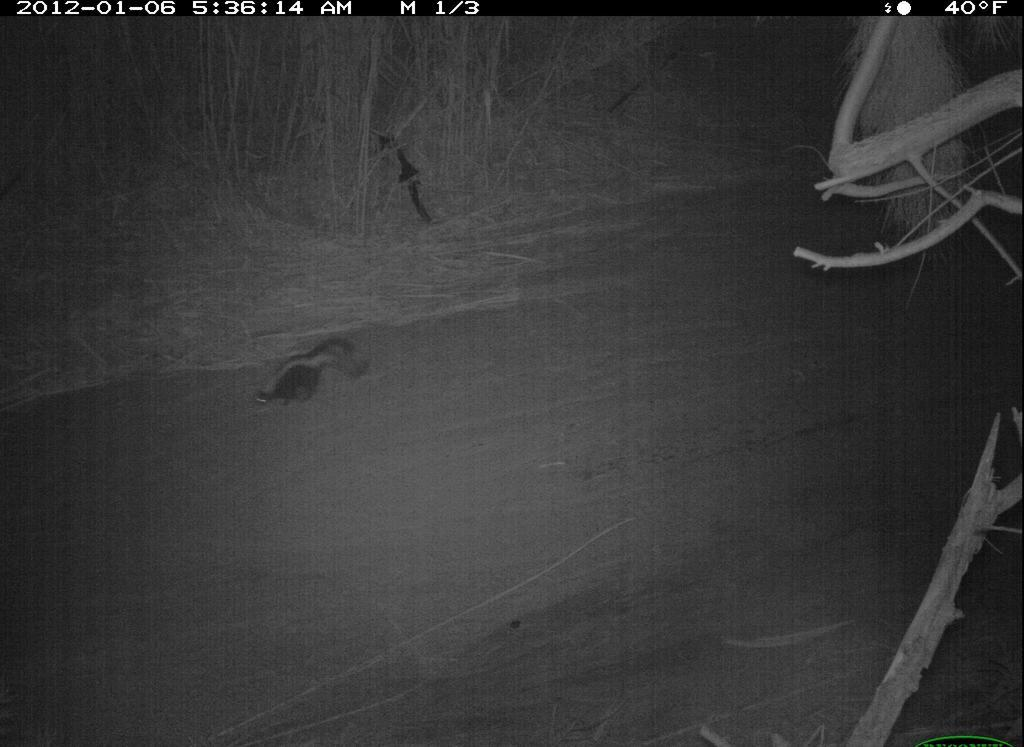skunk: (249, 332, 377, 419)
